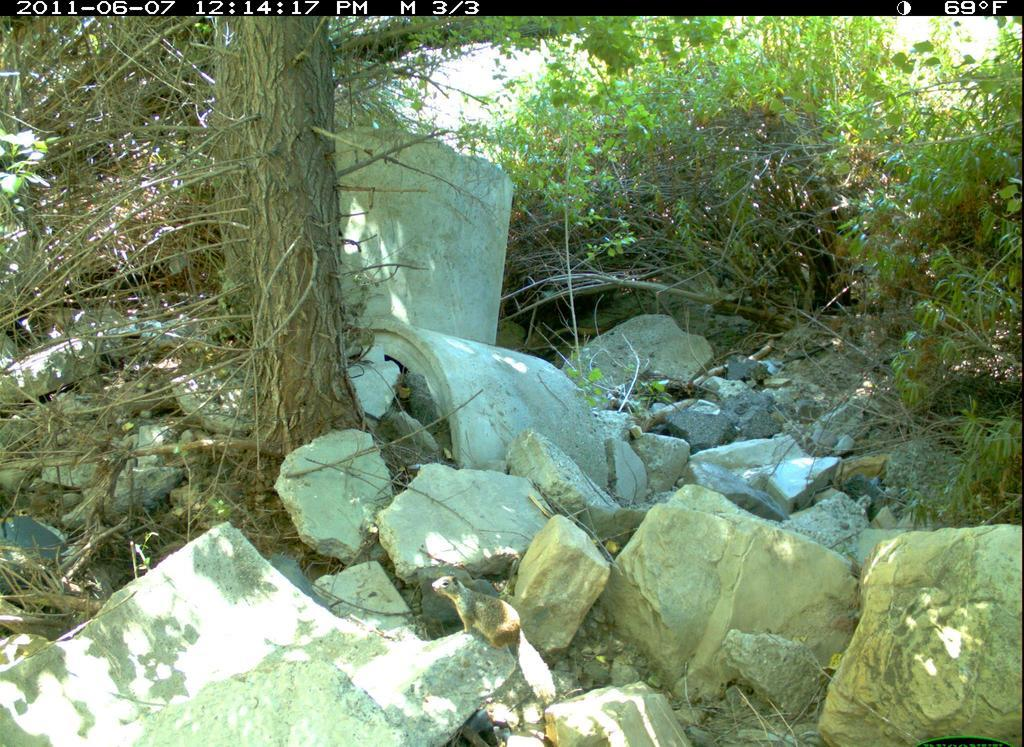squirrel: (426, 575, 558, 708)
